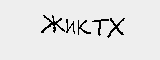Ж: (41, 14, 63, 35)
И: (64, 16, 78, 37)
К: (73, 16, 92, 37)
Т: (93, 15, 108, 39)
Х: (108, 14, 127, 39)
